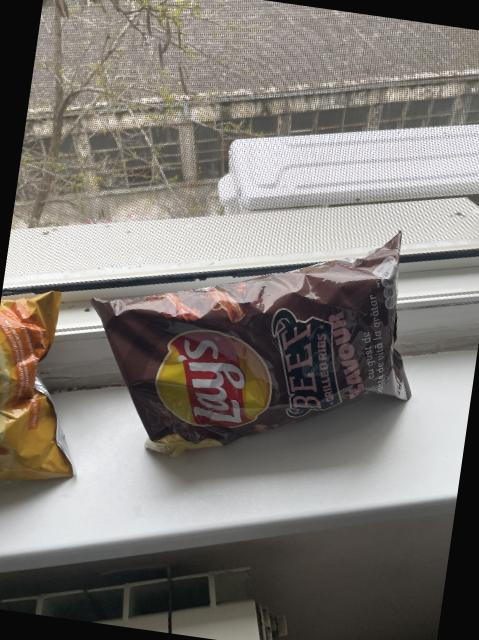Chio Hula Hoops Cheese 70g: (0, 280, 102, 497)
Lays Beef Grilled Ribs 125g: (72, 188, 434, 488)
